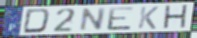2: (52, 8, 77, 33)
D: (21, 8, 52, 34)
E: (106, 6, 136, 31)
H: (161, 4, 190, 31)
K: (137, 6, 160, 30)
N: (78, 7, 108, 32)
